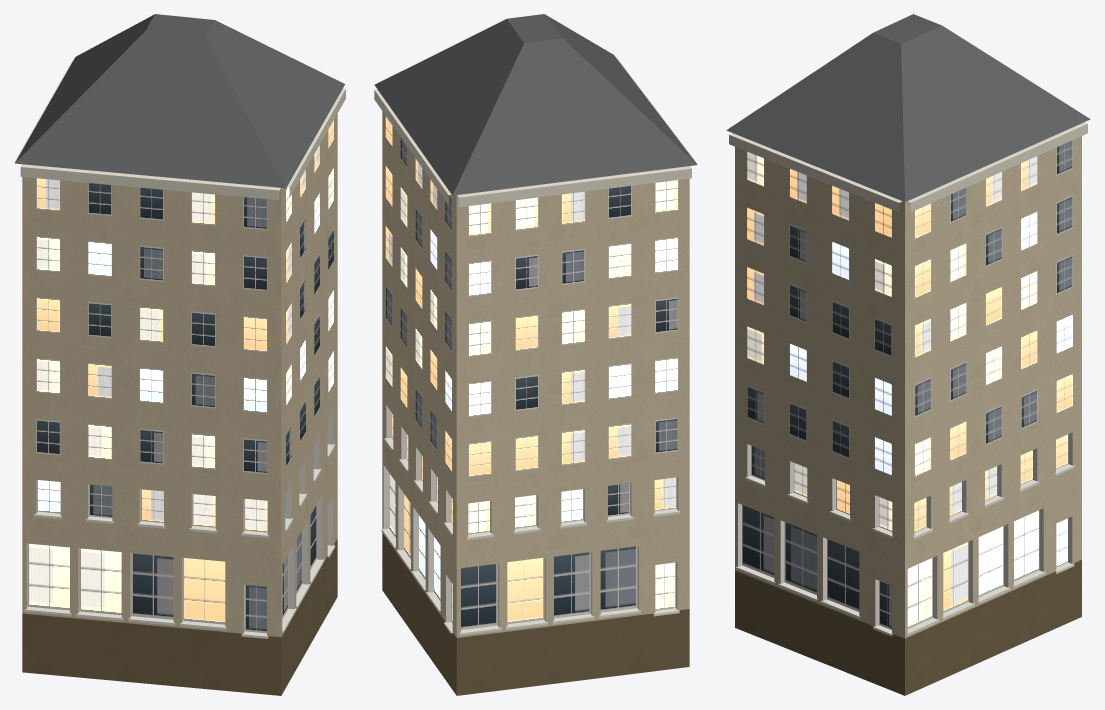
The model's file is ida10.glb.
3 views of the same model, side by side, from view 1: azimuth 30°, elevation 25°; view 2: azimuth 150°, elevation 25°; view 3: azimuth 270°, elevation 25° (orthographic). The views are drawn at different scales.
Visible parts, largest first — view 1: ida10; view 2: ida10; view 3: ida10.
Boxes of the visible parts, x1,y1,x2,y2 form: ida10: [14, 14, 345, 695]; ida10: [374, 14, 697, 695]; ida10: [726, 14, 1090, 695].
Bounding box in the file's own units: 17.6 × 31.09 × 17.34.
Materials: 3 (3 with a texture image).
